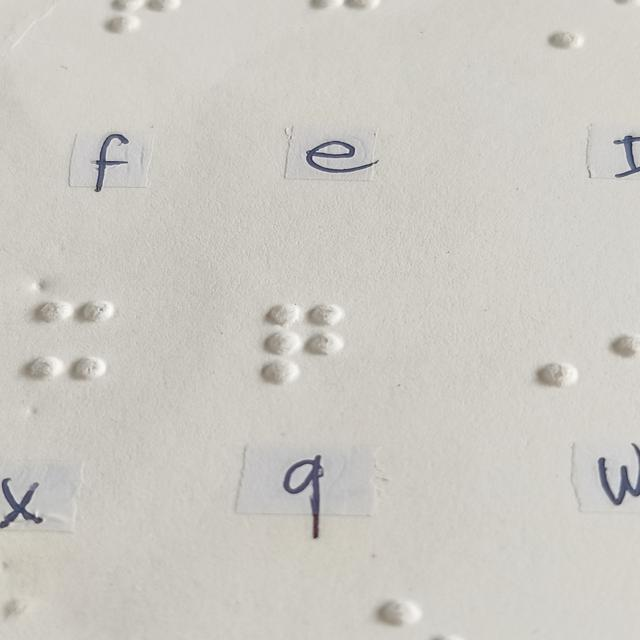letter_q: (264, 302, 345, 383)
letter_x: (31, 298, 112, 379)
